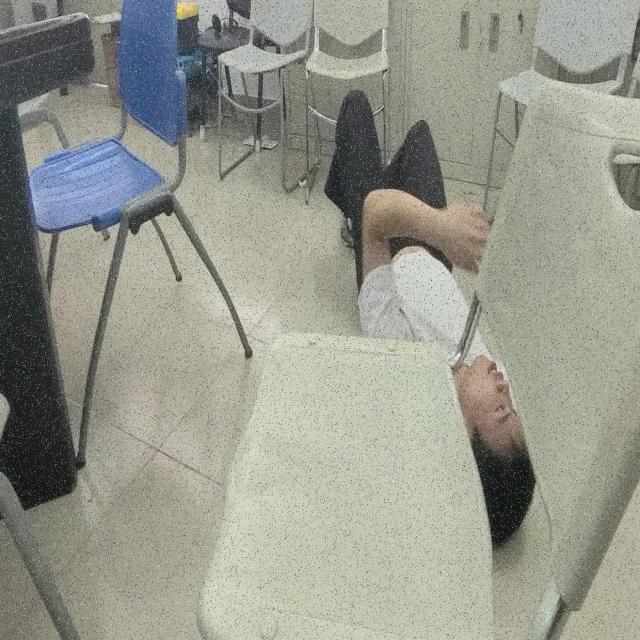fall: (326, 90, 538, 542)
